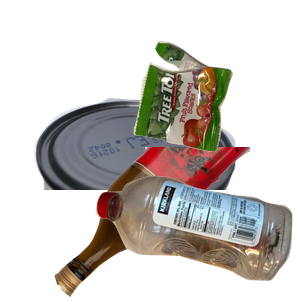glass: (52, 147, 292, 300)
metal: (16, 96, 244, 276)
plastic: (93, 173, 300, 300)
trash: (131, 38, 300, 182)
